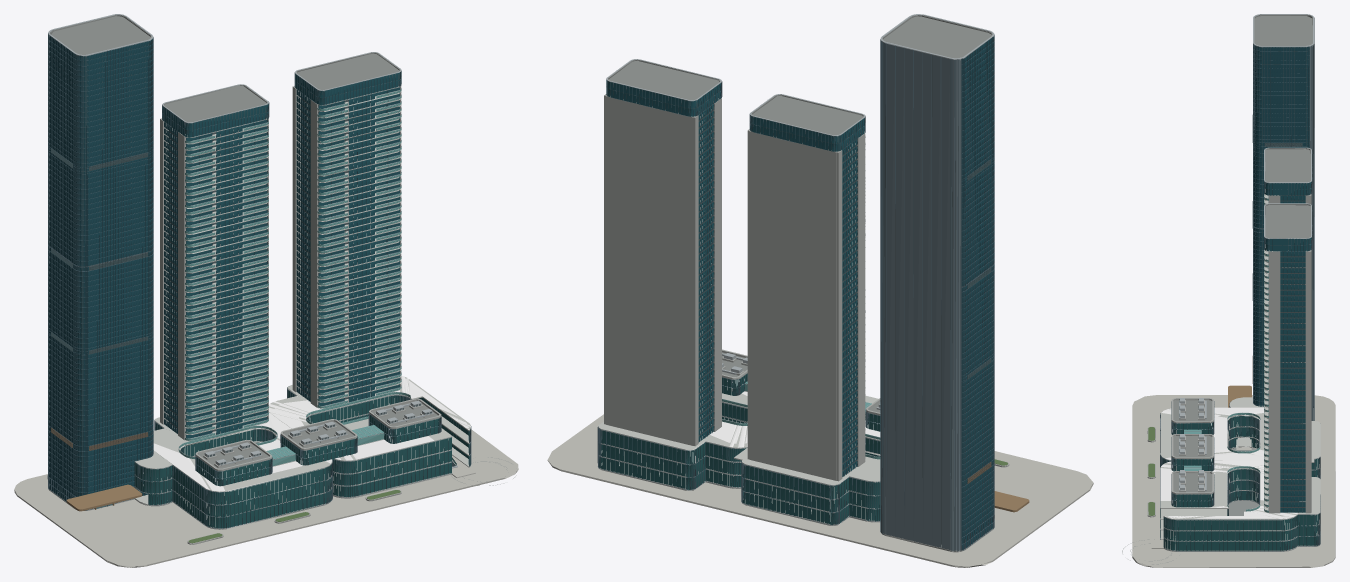
File: light.glb
3 renders of one model, left to right at view 1: azimuth 30°, elevation 25°; view 2: azimuth 150°, elevation 25°; view 3: azimuth 270°, elevation 25°, orthographic. The views are drawn at different scales.
Visible parts, largest first — view 1: OFFICE finite blue glazing, RESIDENTIAL MID recessed balcony glass, OFFICE mullion channel spine, RESIDENTIAL MID recessed structure slabs, PODIUM 1 external storefront glass, RESIDENTIAL MID finite balcony guards, PODIUM east passage paving, OFFICE neutral foundation plinth, OFFICE neutral roof CLOSURE_HOLD, OFFICE louver recessed backing NOT_INTERIOR, OFFICE crown coping, PODIUM 1 procedural roof paving finish (+2 smaller); view 2: OFFICE neutral foundation plinth, OFFICE local rear neutral CLOSURE_HOLD panels, OFFICE mullion channel spine, OFFICE finite blue glazing, PODIUM east passage paving, RESIDENTIAL MID recessed balcony glass, PODIUM 1 external storefront glass, OFFICE neutral roof CLOSURE_HOLD, RESIDENTIAL MID recessed structure slabs, OFFICE louver recessed backing NOT_INTERIOR, OFFICE crown coping, PODIUM 1 procedural roof paving finish; view 3: PODIUM east passage paving, OFFICE mullion channel spine, OFFICE finite blue glazing, PODIUM 1 external storefront glass, RESIDENTIAL MID recessed balcony glass, OFFICE neutral foundation plinth, RESIDENTIAL MID recessed structure slabs, OFFICE neutral roof CLOSURE_HOLD, OFFICE louver recessed backing NOT_INTERIOR, PODIUM 1 procedural roof paving finish, OFFICE crown coping, RESIDENTIAL MID finite balcony guards (+5 smaller).
Boxes of the visible parts, <box> form: OFFICE finite blue glazing: <box>48,35,153,501</box>; RESIDENTIAL MID recessed balcony glass: <box>162,71,401,438</box>; OFFICE mullion channel spine: <box>47,33,471,528</box>; RESIDENTIAL MID recessed structure slabs: <box>134,84,470,528</box>; PODIUM 1 external storefront glass: <box>134,390,470,528</box>; RESIDENTIAL MID finite balcony guards: <box>178,88,456,466</box>; PODIUM east passage paving: <box>14,429,518,567</box>; OFFICE neutral foundation plinth: <box>48,86,456,544</box>; OFFICE neutral roof CLOSURE_HOLD: <box>50,15,438,468</box>; OFFICE louver recessed backing NOT_INTERIOR: <box>53,44,399,495</box>; OFFICE crown coping: <box>48,14,457,468</box>; PODIUM 1 procedural roof paving finish: <box>153,375,470,491</box>; OFFICE neutral foundation plinth: <box>598,94,1009,552</box>; OFFICE local rear neutral CLOSURE_HOLD panels: <box>881,42,961,551</box>; OFFICE mullion channel spine: <box>597,34,994,551</box>; OFFICE finite blue glazing: <box>961,36,994,549</box>; PODIUM east passage paving: <box>547,414,1093,567</box>; RESIDENTIAL MID recessed balcony glass: <box>606,80,864,476</box>; PODIUM 1 external storefront glass: <box>599,373,880,524</box>; OFFICE neutral roof CLOSURE_HOLD: <box>608,15,992,412</box>; RESIDENTIAL MID recessed structure slabs: <box>598,98,880,525</box>; OFFICE louver recessed backing NOT_INTERIOR: <box>608,43,991,544</box>; OFFICE crown coping: <box>606,14,994,457</box>; PODIUM 1 procedural roof paving finish: <box>705,379,880,447</box>; PODIUM east passage paving: <box>1132,395,1335,567</box>; OFFICE mullion channel spine: <box>1160,18,1320,551</box>; OFFICE finite blue glazing: <box>1253,45,1309,406</box>; PODIUM 1 external storefront glass: <box>1160,416,1319,550</box>; RESIDENTIAL MID recessed balcony glass: <box>1264,181,1311,512</box>; OFFICE neutral foundation plinth: <box>1147,194,1319,551</box>; RESIDENTIAL MID recessed structure slabs: <box>1160,189,1320,551</box>; OFFICE neutral roof CLOSURE_HOLD: <box>1173,15,1312,492</box>; OFFICE louver recessed backing NOT_INTERIOR: <box>1256,47,1310,507</box>; PODIUM 1 procedural roof paving finish: <box>1160,407,1297,519</box>; OFFICE crown coping: <box>1170,14,1314,544</box>; RESIDENTIAL MID finite balcony guards: <box>1175,194,1268,543</box>.
Bounding box in the file's own units: 94 × 100 × 49.3.
